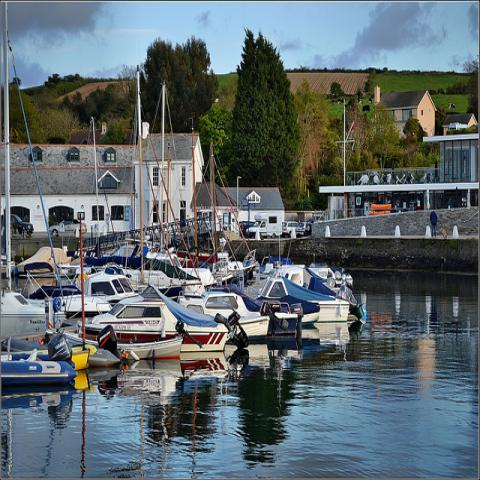car: (49, 218, 87, 238), (282, 222, 299, 236), (240, 221, 253, 238), (296, 222, 311, 235)
truck: (246, 211, 282, 239), (9, 214, 34, 236)
